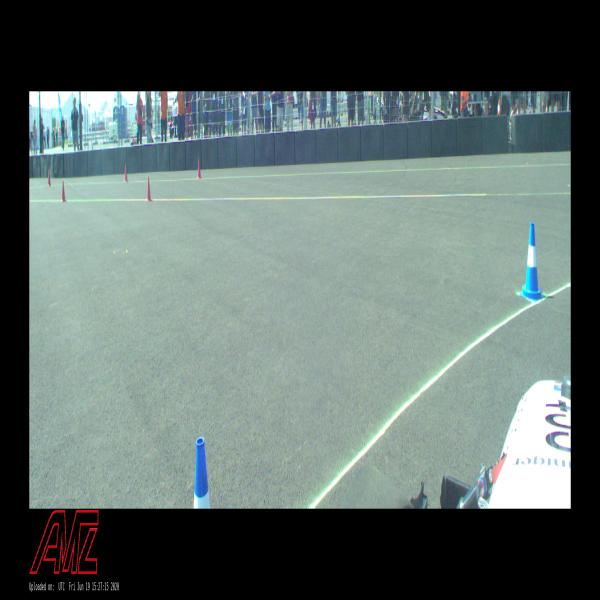blue_cone: (522, 222, 542, 300), (193, 437, 211, 508)
unknown_cone: (146, 176, 152, 202), (62, 181, 66, 202), (197, 158, 201, 178), (124, 164, 128, 182), (48, 170, 51, 186)
